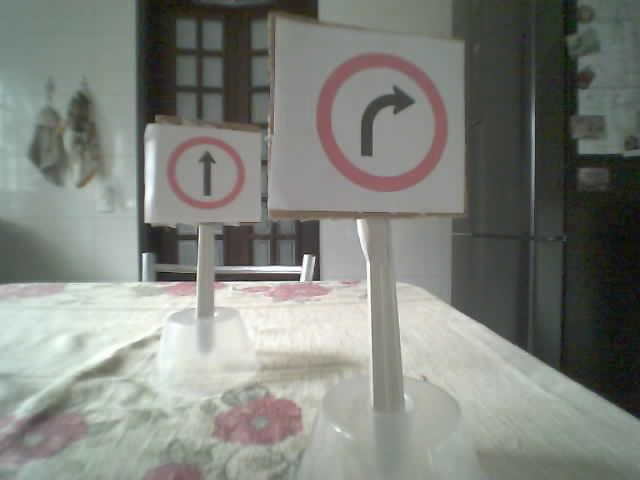R-25b_direita: (314, 52, 447, 192)
R-26_frente: (168, 135, 244, 209)
